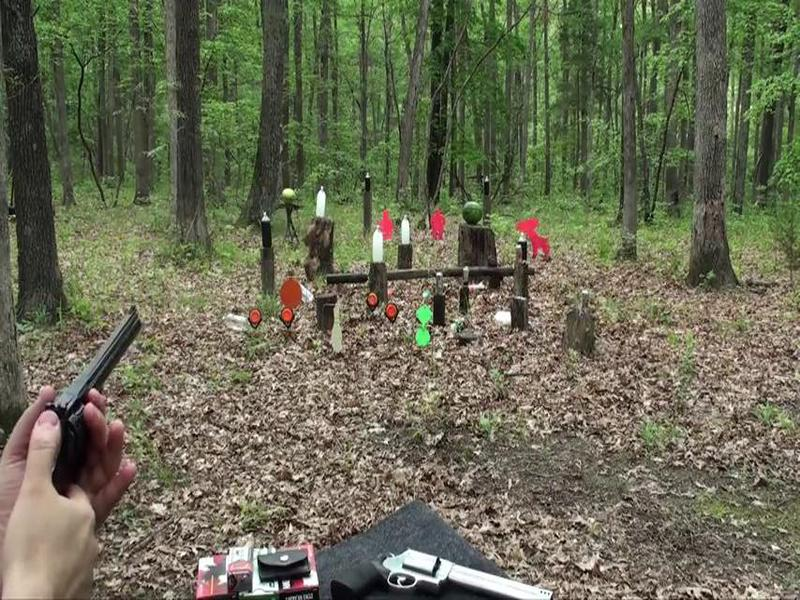Revolver: (18, 297, 150, 490)
